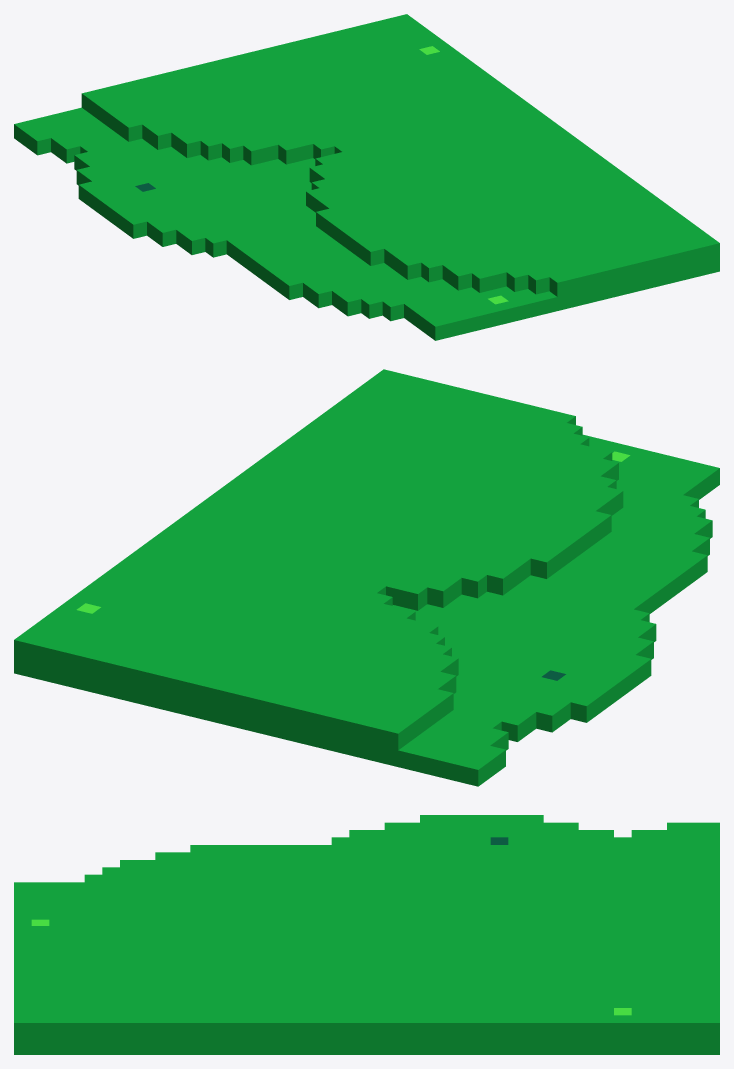
Rendered from plane_corner2.obj.
3 renders of one model, top to bottom at view 1: azimuth 30°, elevation 25°; view 2: azimuth 150°, elevation 25°; view 3: azimuth 270°, elevation 25°, orthographic. The views are drawn at different scales.
Bounding box in the file's own units: 3 × 0.2 × 4.
Materials: 1 (1 with a texture image).
